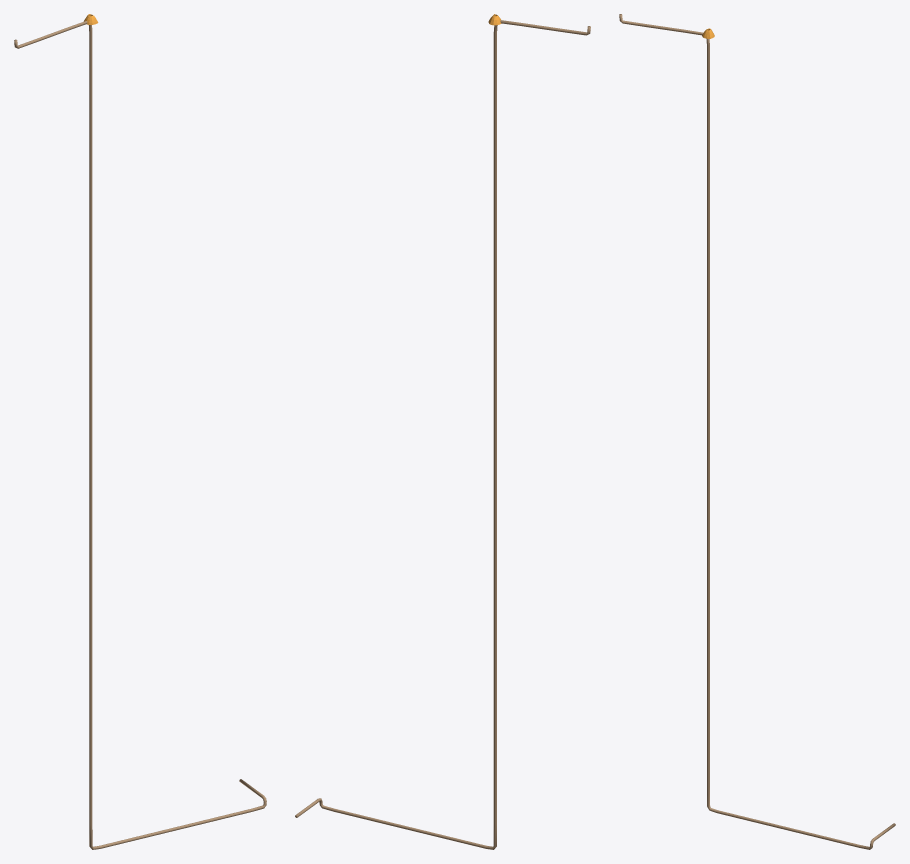
Rendered from pipes_hvac__erv-yes_and_hvac-split_furnace.glb.
3 renders of one model, left to right at view 1: azimuth 30°, elevation 25°; view 2: azimuth 150°, elevation 25°; view 3: azimuth 330°, elevation 25°, orthographic. The views are drawn at different scales.
Parts seen in each view (by area): view 1: cable_erv_interlock; view 2: cable_erv_interlock; view 3: cable_erv_interlock.
Part boxes in pixels (bbox=[...]): cable_erv_interlock: bbox=[14, 21, 266, 849]; cable_erv_interlock: bbox=[295, 20, 590, 849]; cable_erv_interlock: bbox=[619, 14, 895, 849].
Bounding box in the file's own units: 0.6495 × 1.99 × 0.1495.
